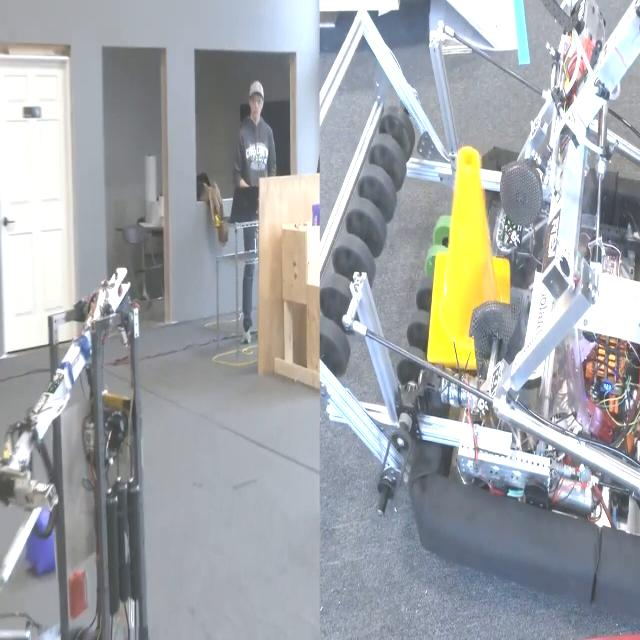frc_cone: (434, 156, 507, 364)
frc_cube: (23, 507, 62, 580)
